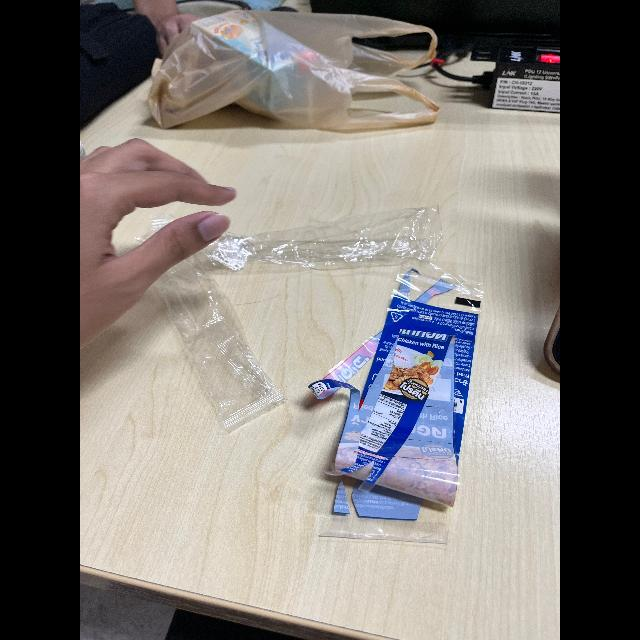scrap_plastic: (320, 273, 492, 547), (118, 243, 290, 422), (190, 202, 450, 278)
